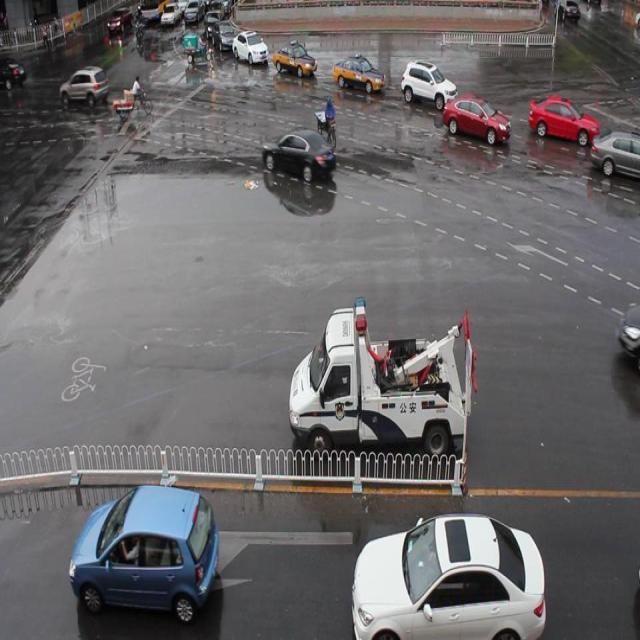bus: (289, 296, 476, 464)
car: (352, 511, 545, 640), (70, 484, 217, 624), (262, 128, 337, 184), (527, 92, 598, 145), (443, 94, 510, 146), (400, 58, 458, 111), (588, 128, 640, 183), (333, 54, 383, 94), (272, 41, 317, 78), (232, 27, 269, 67), (214, 20, 236, 55)
